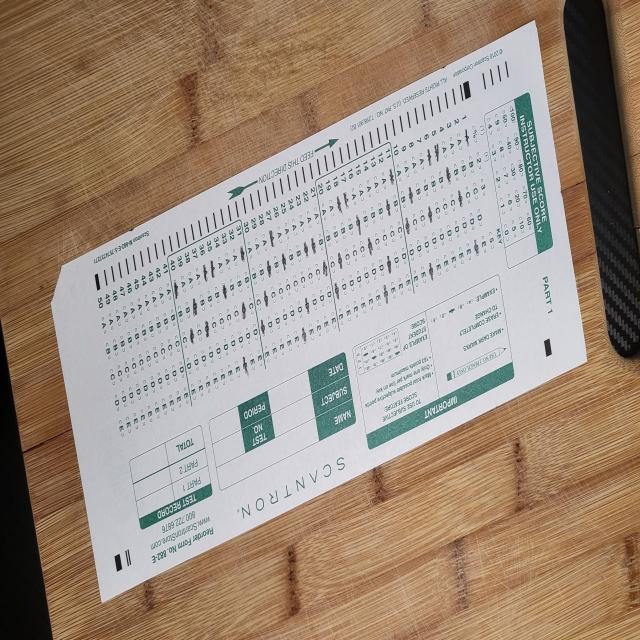scantron: (50, 17, 588, 604)
